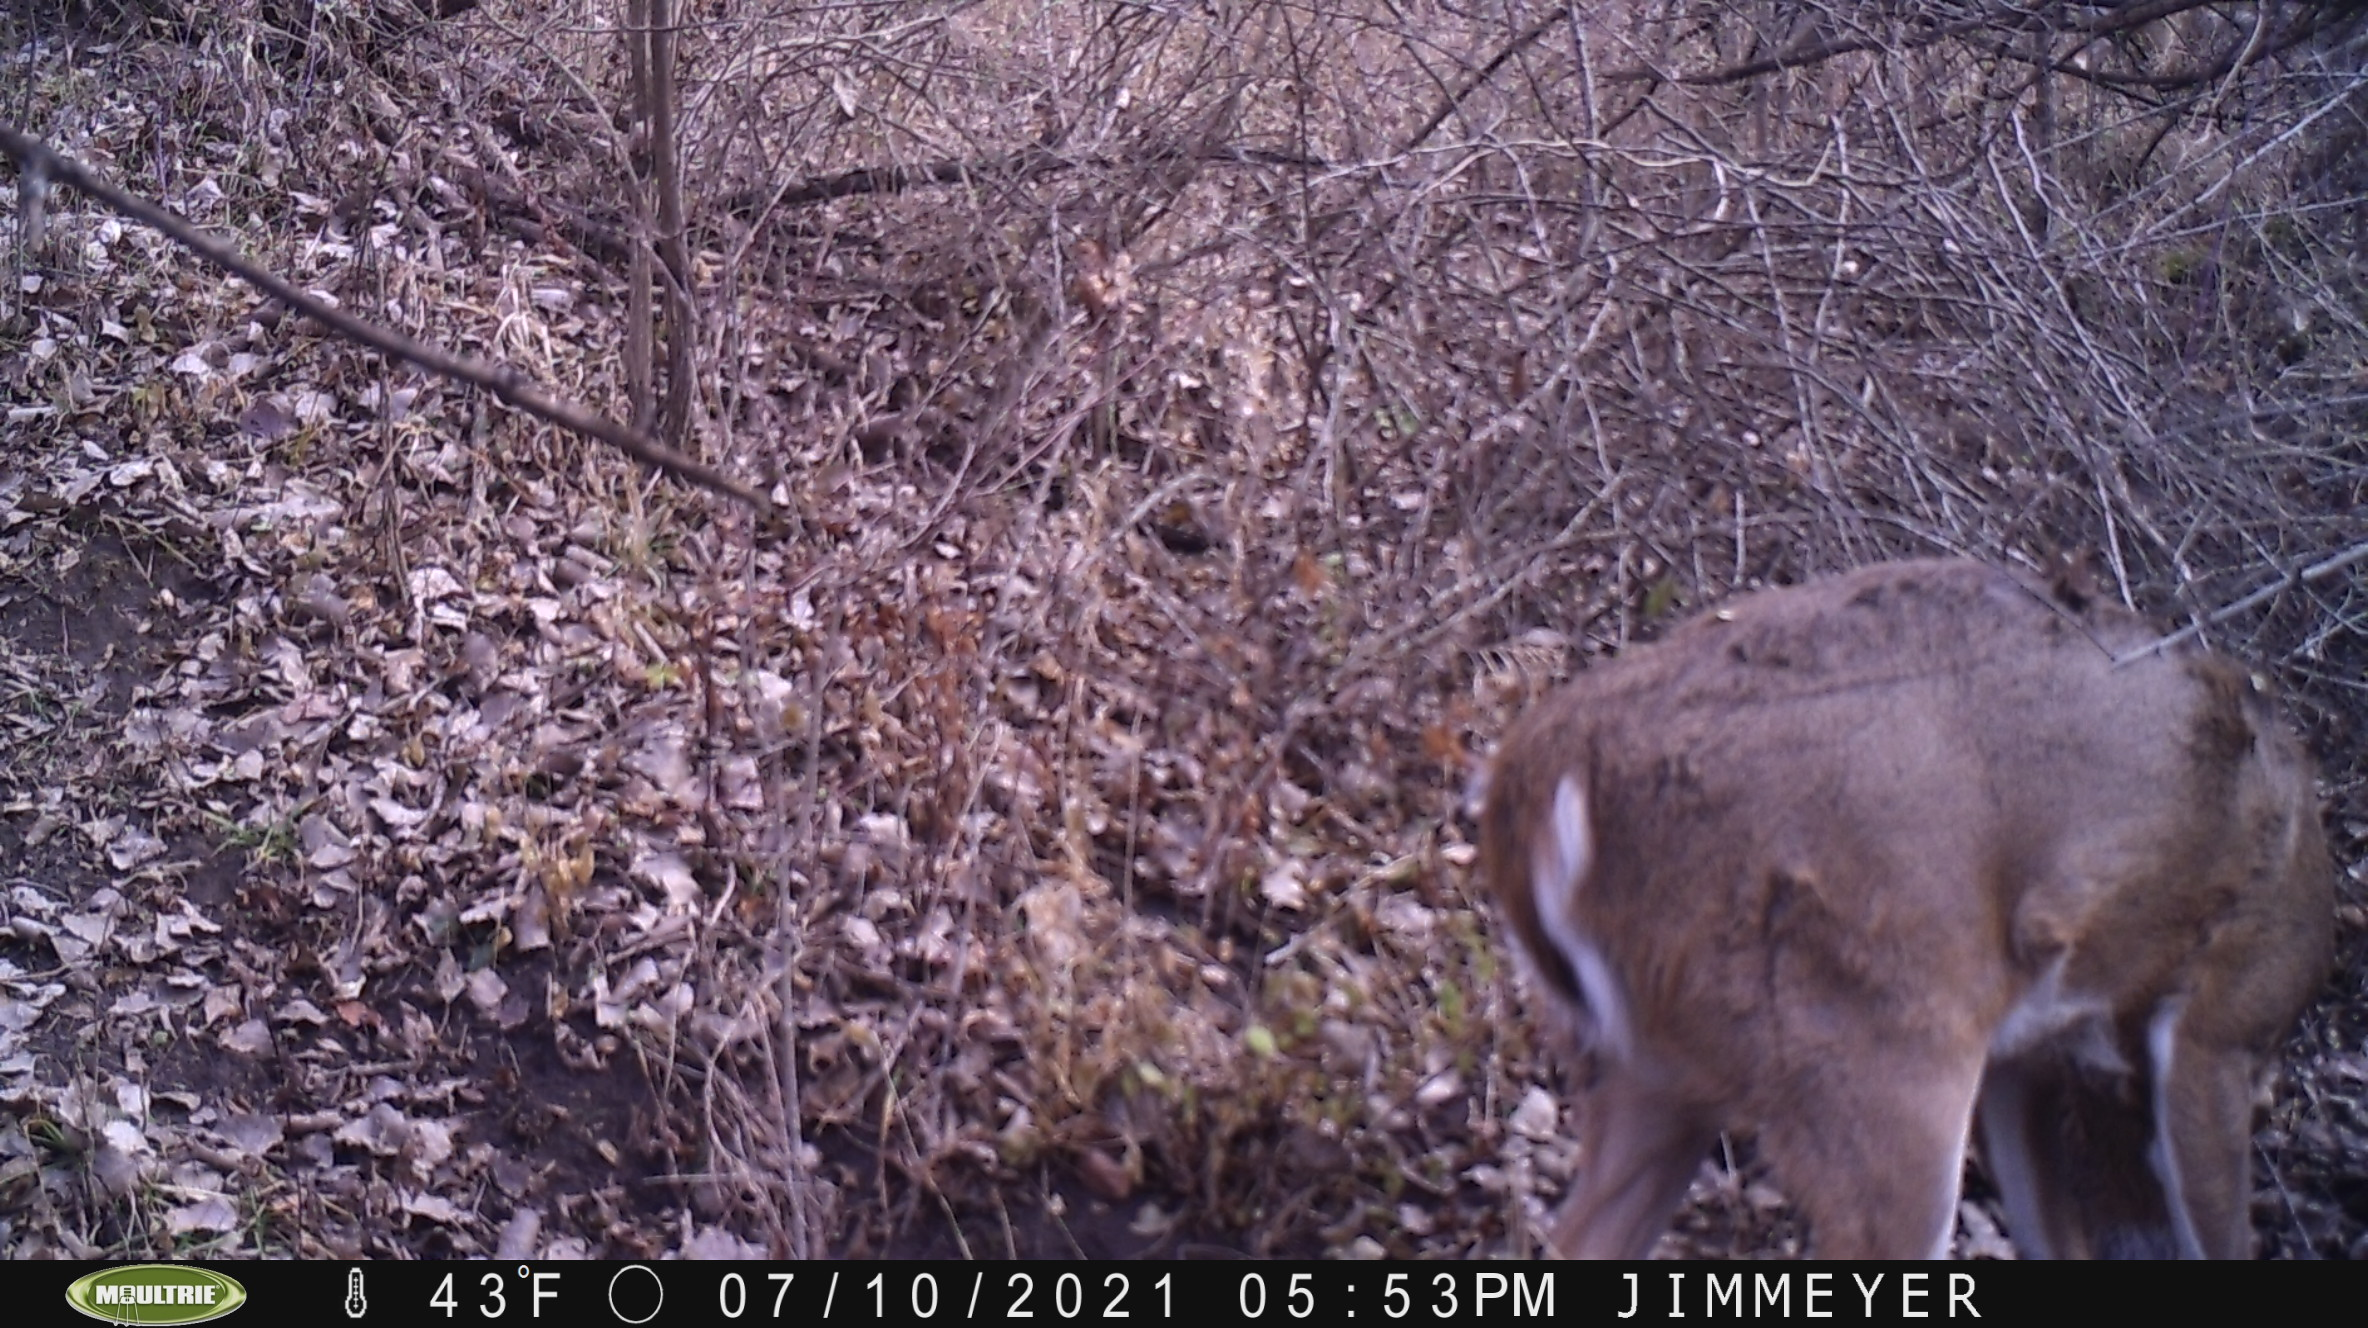Deer: (1483, 554, 2368, 1260)
